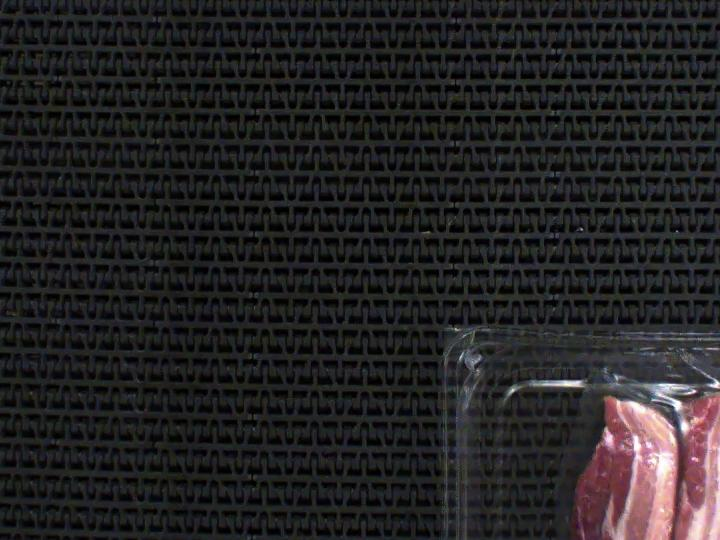unsealed: (548, 335, 720, 513)
